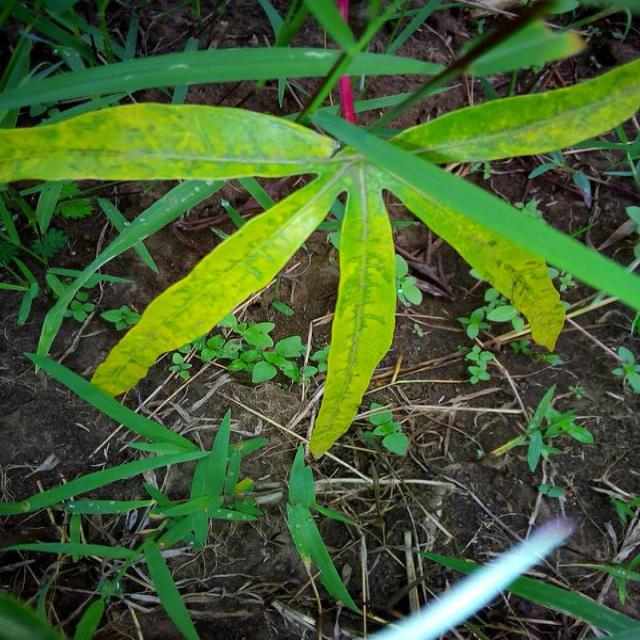cassava leaf: (2, 13, 640, 460), (90, 150, 354, 399), (2, 100, 339, 185), (386, 56, 640, 164), (308, 159, 398, 460)
